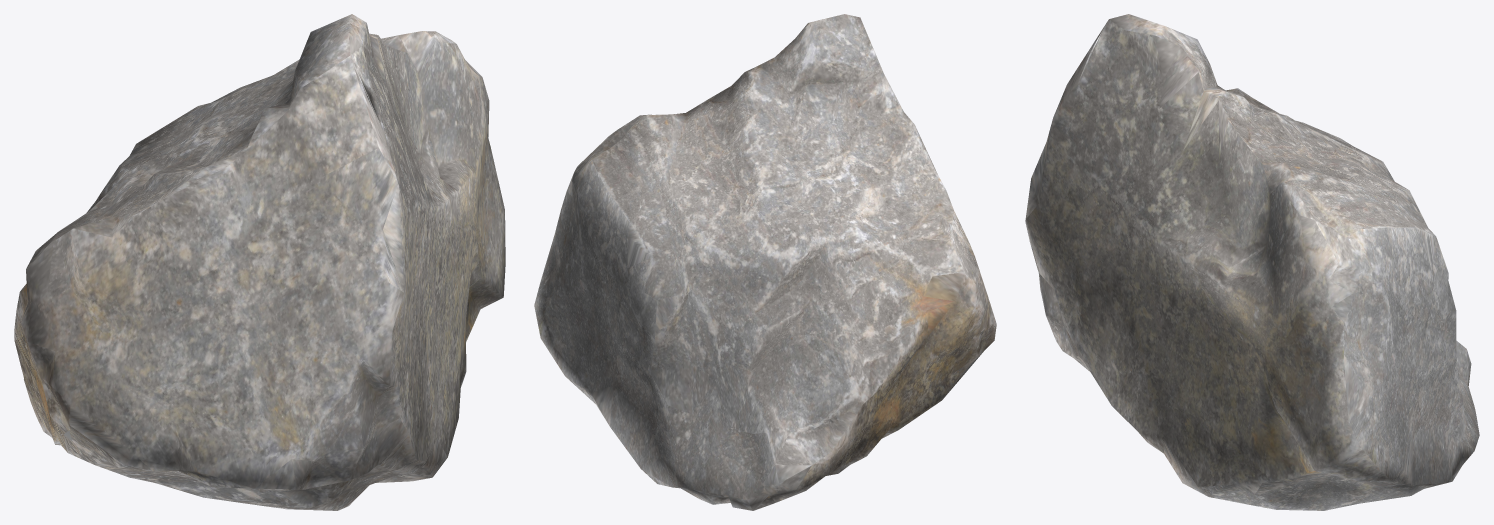
The model's file is Rock1.obj.
3 renders of one model, left to right at view 1: azimuth 30°, elevation 25°; view 2: azimuth 150°, elevation 25°; view 3: azimuth 270°, elevation 25°, orthographic. The views are drawn at different scales.
Parts seen in each view (by area): view 1: Rocks_Temple9Out.020; view 2: Rocks_Temple9Out.020; view 3: Rocks_Temple9Out.020.
Boxes of the visible parts, x1,y1,x2,y2 form: Rocks_Temple9Out.020: (14, 14, 505, 510); Rocks_Temple9Out.020: (534, 14, 996, 510); Rocks_Temple9Out.020: (1025, 14, 1479, 510).
Size of the model in its own units: 5.86 by 5.41 by 4.99.
1 material, 1 textured.
